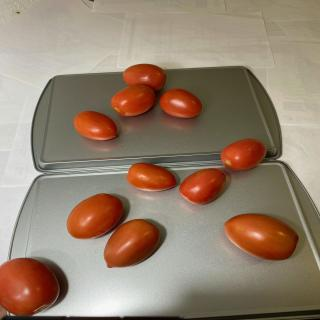Tomato: (224, 213, 299, 261), (0, 258, 60, 316), (104, 219, 160, 268), (66, 193, 124, 239), (179, 168, 226, 205), (220, 138, 267, 171), (126, 162, 177, 192), (110, 85, 156, 116), (74, 110, 118, 141), (159, 88, 202, 118), (122, 63, 167, 91)
